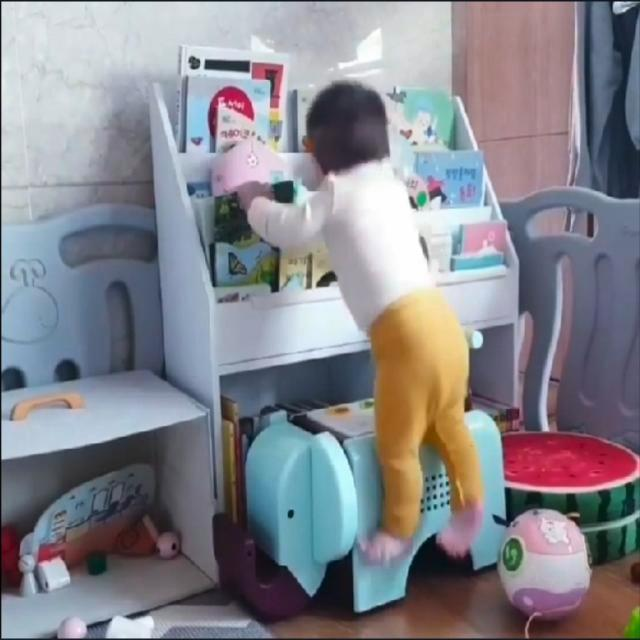child: (232, 88, 485, 566)
